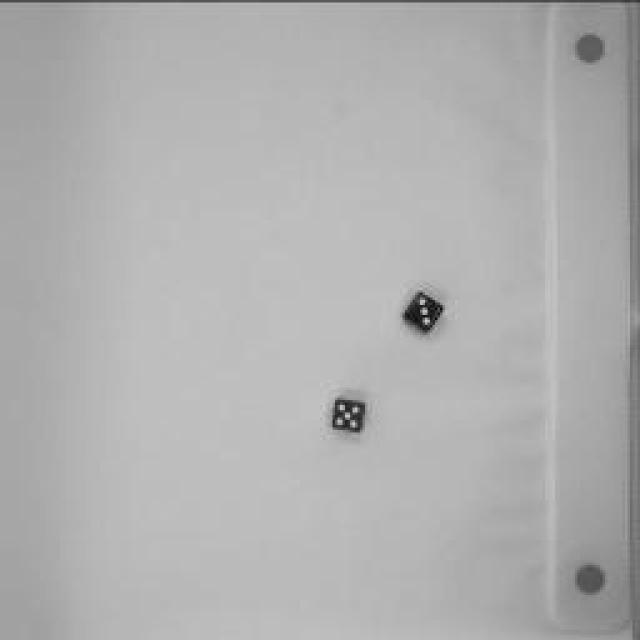dice_3: (401, 281, 454, 339)
dice_5: (327, 390, 375, 440)
